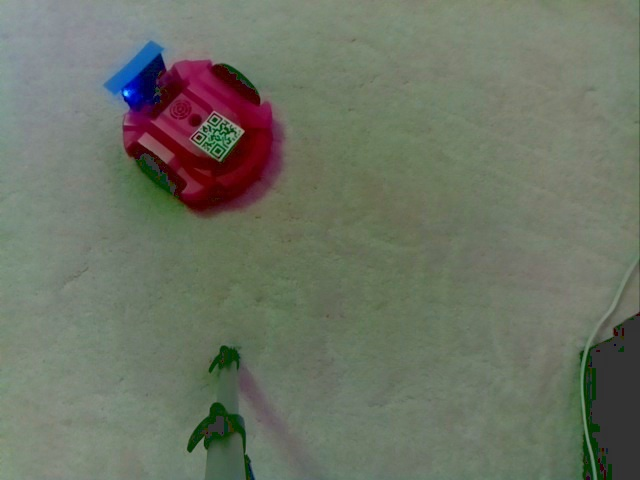board: (97, 37, 164, 102)
chassis: (100, 36, 284, 213)
